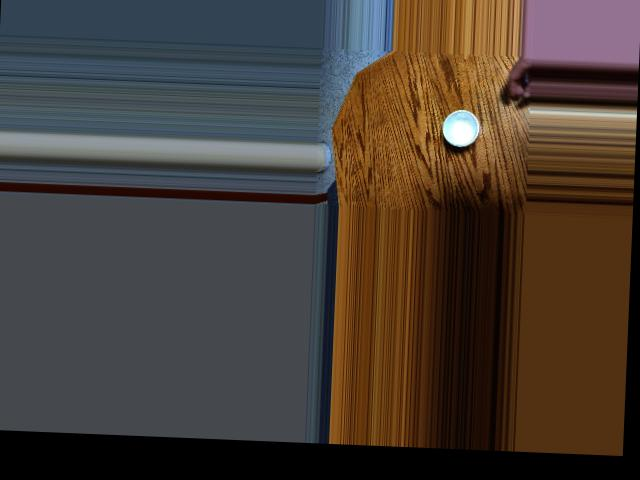cotage: (438, 105, 483, 147)
